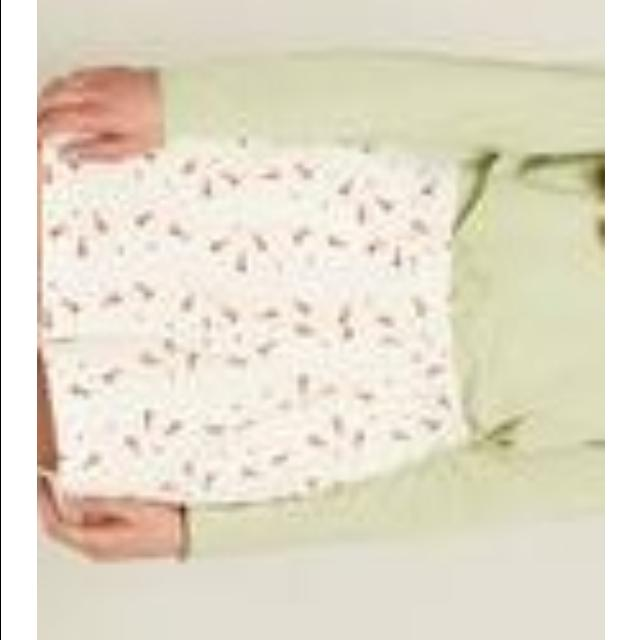cotton: (451, 76, 604, 548)
